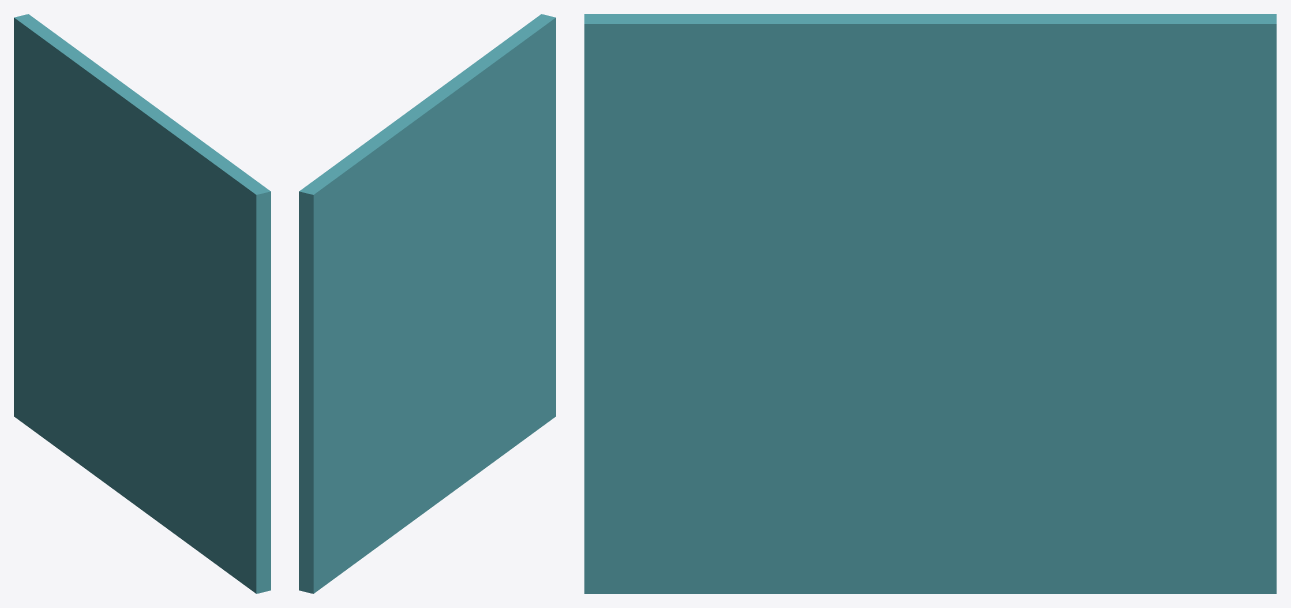
File: sign_dont_destroy.glb
3 views of the same model, side by side, from view 1: azimuth 30°, elevation 25°; view 2: azimuth 150°, elevation 25°; view 3: azimuth 270°, elevation 25° (orthographic). The views are drawn at different scales.
Visible parts, largest first — view 1: Cube; view 2: Cube; view 3: Cube.
Part boxes in pixels (x1,y1,x2,y2): Cube: (14, 14, 270, 593); Cube: (299, 14, 555, 593); Cube: (584, 14, 1276, 593).
Size of the model in its own units: 0.12 by 3.16 by 3.48.
